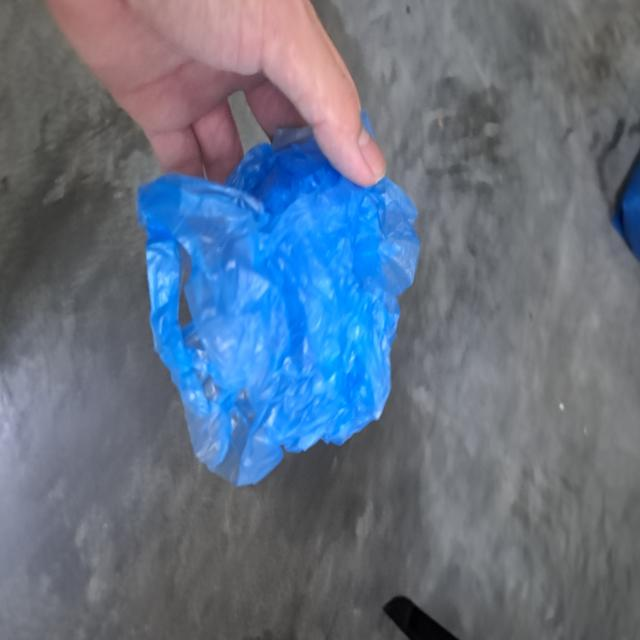plastic bag: (136, 115, 412, 484)
